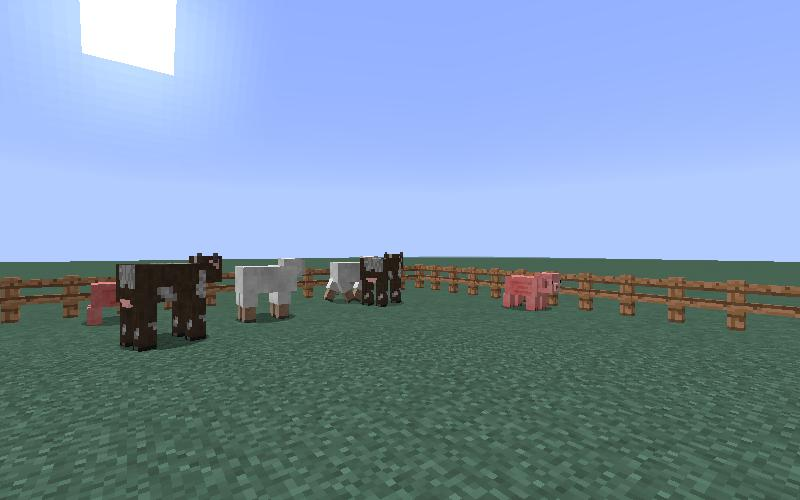cow: (113, 247, 229, 354), (358, 249, 406, 308)
pig: (498, 264, 564, 322), (86, 281, 116, 324)
sheep: (231, 252, 308, 330), (323, 262, 361, 305)
